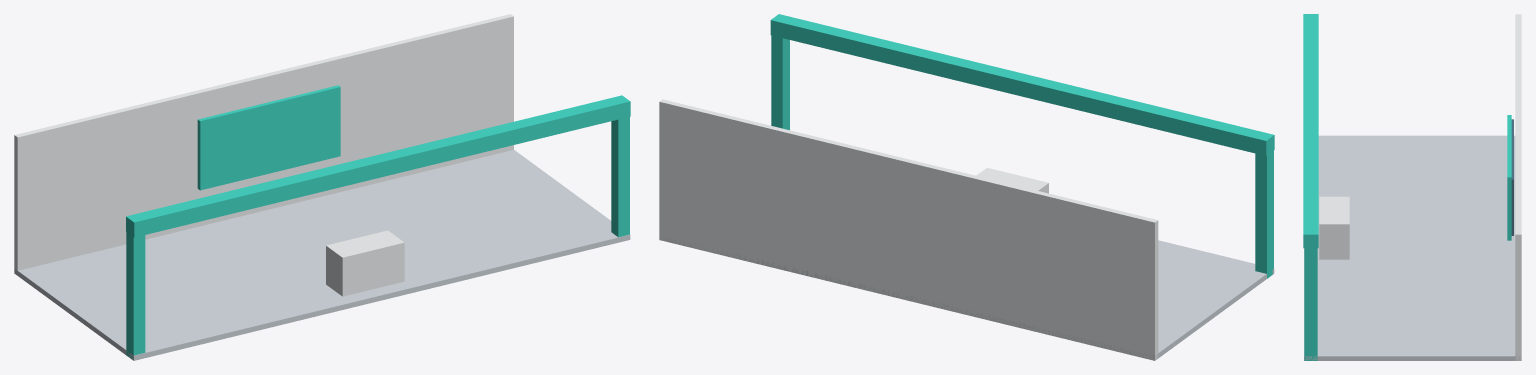
3 renders of one model, left to right at view 1: azimuth 30°, elevation 25°; view 2: azimuth 150°, elevation 25°; view 3: azimuth 270°, elevation 25°, orthographic. The views are drawn at different scales.
Visible parts, largest first — view 1: Exhibition Booth Concept; view 2: Exhibition Booth Concept; view 3: Exhibition Booth Concept.
Part boxes in pixels (x1,y1,x2,y2): Exhibition Booth Concept: (14, 14, 630, 360); Exhibition Booth Concept: (659, 14, 1274, 360); Exhibition Booth Concept: (1303, 14, 1521, 360).
Bounding box in the file's own units: 12 × 3.2 × 5.02.
